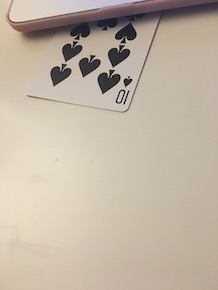TenOfSpades: (24, 6, 169, 115)
